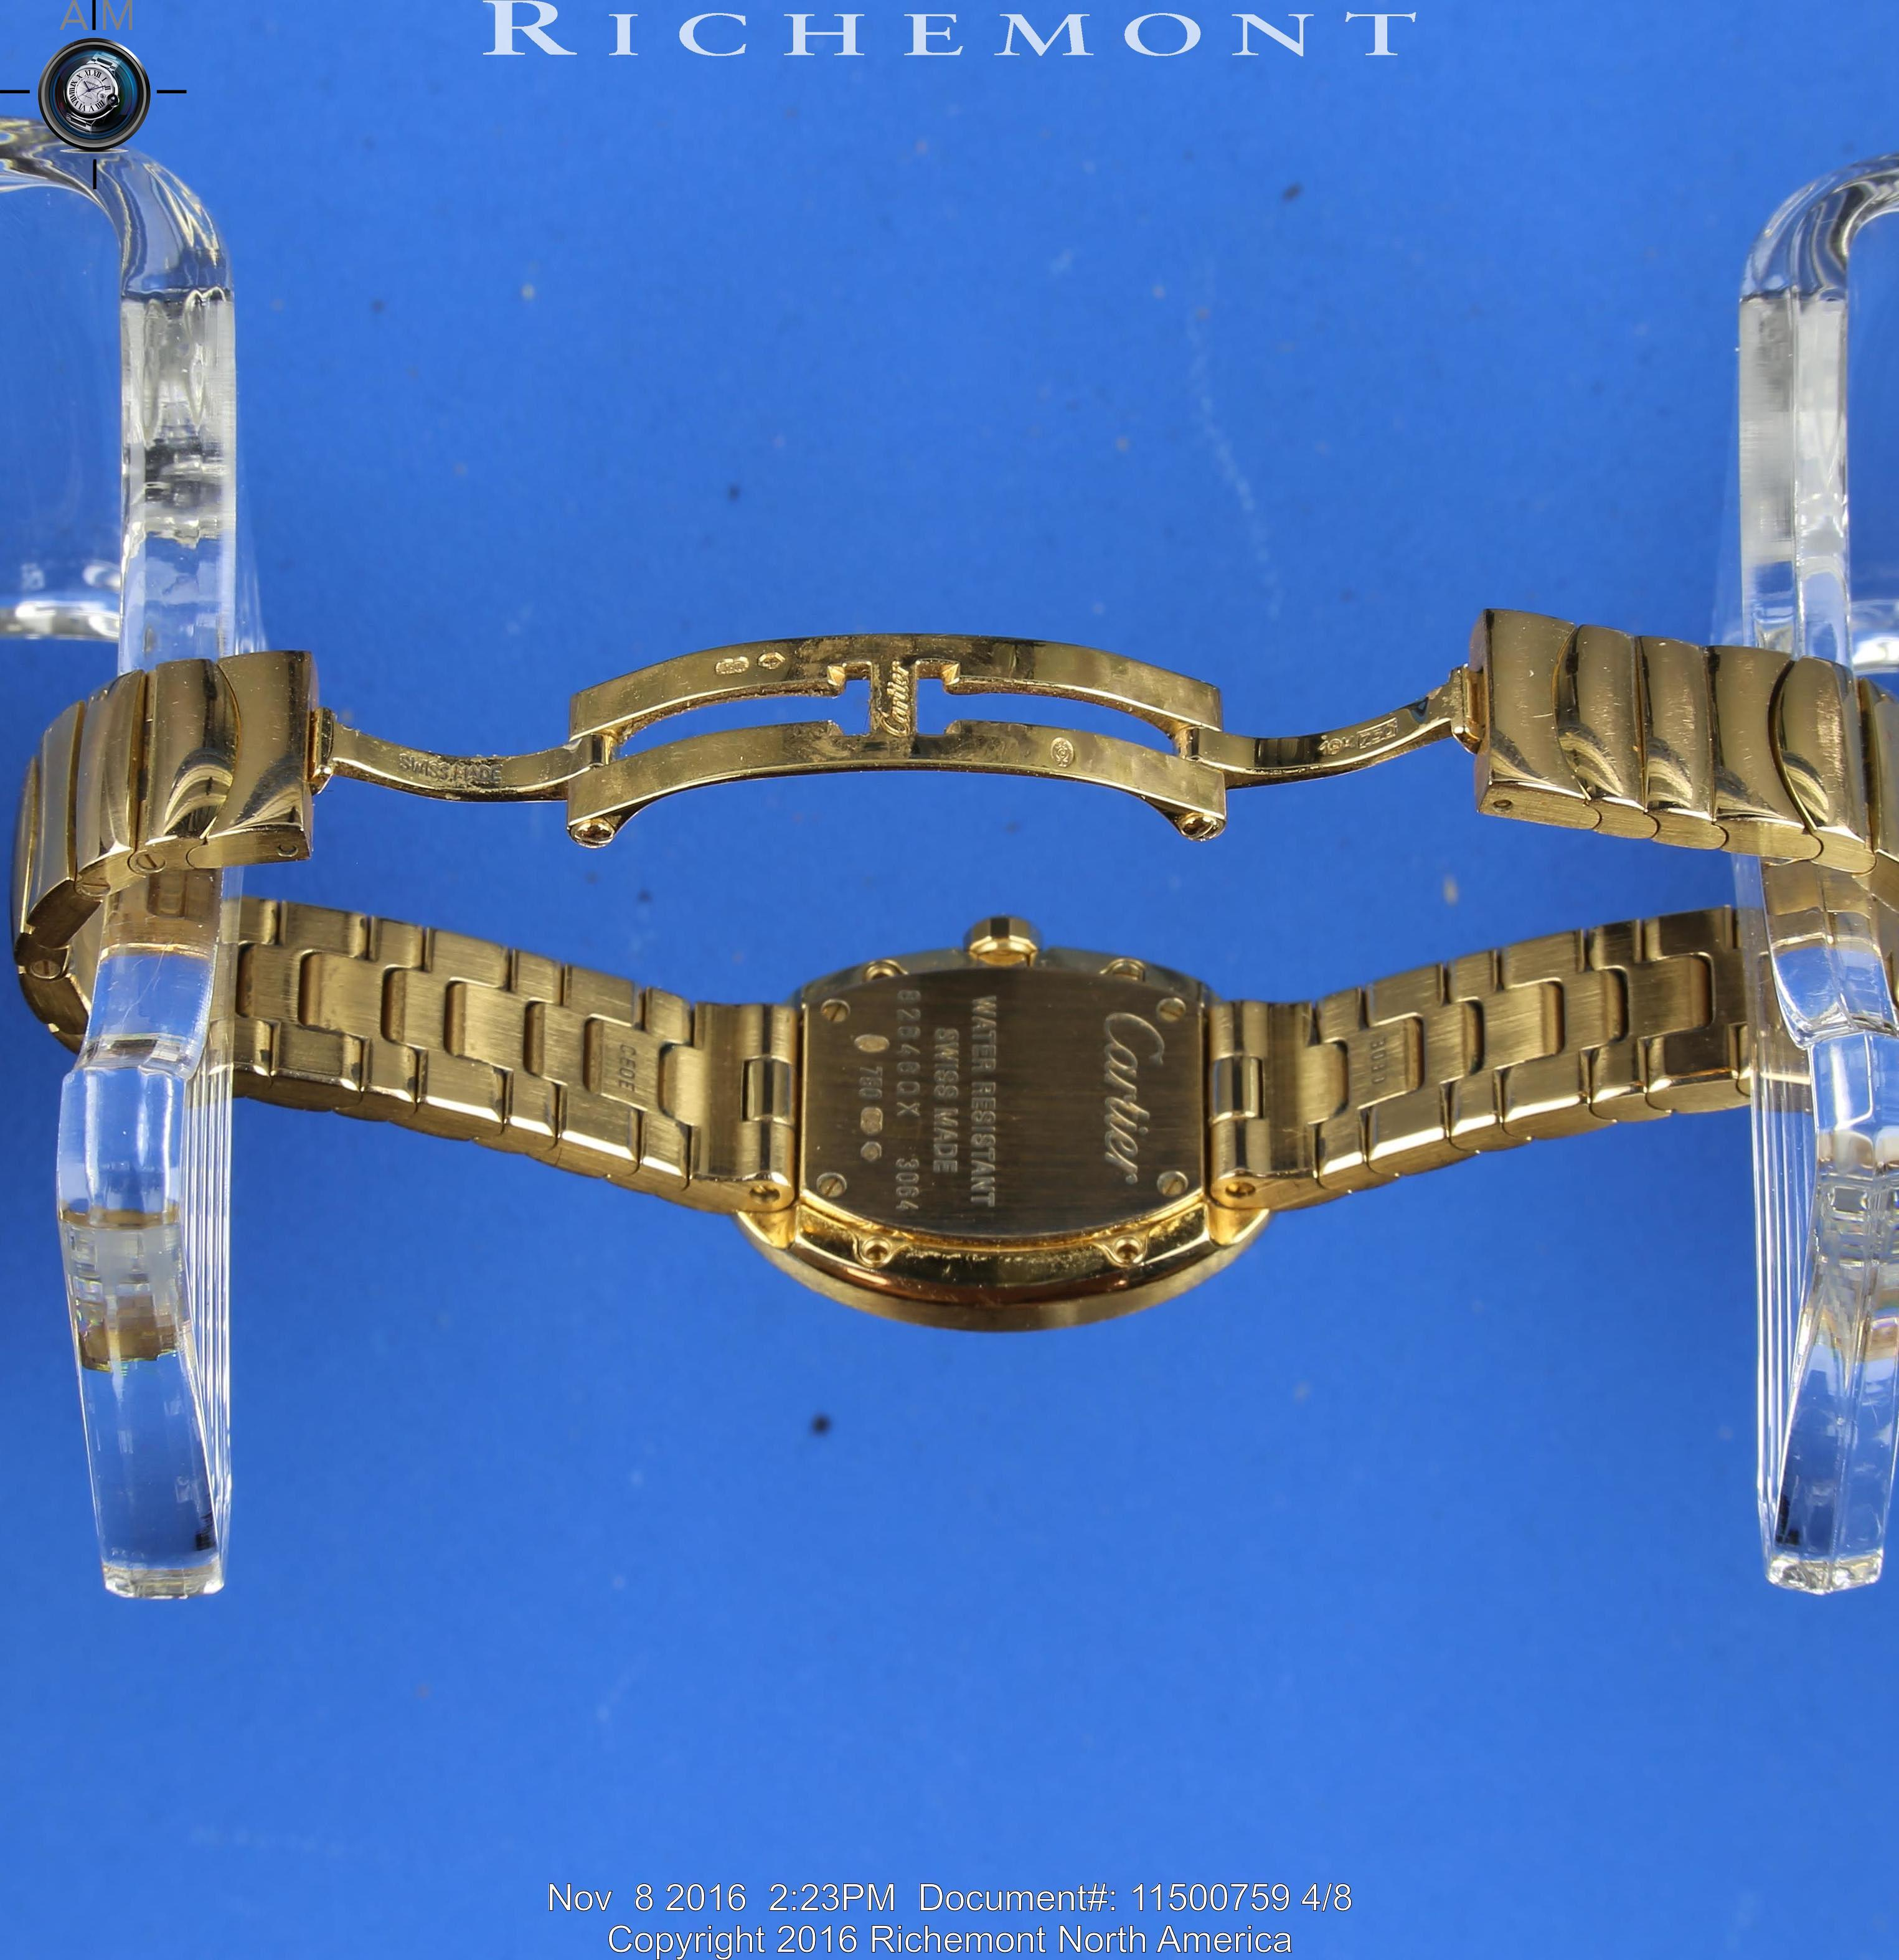Watch Back Case: (723, 896, 1314, 1342)
